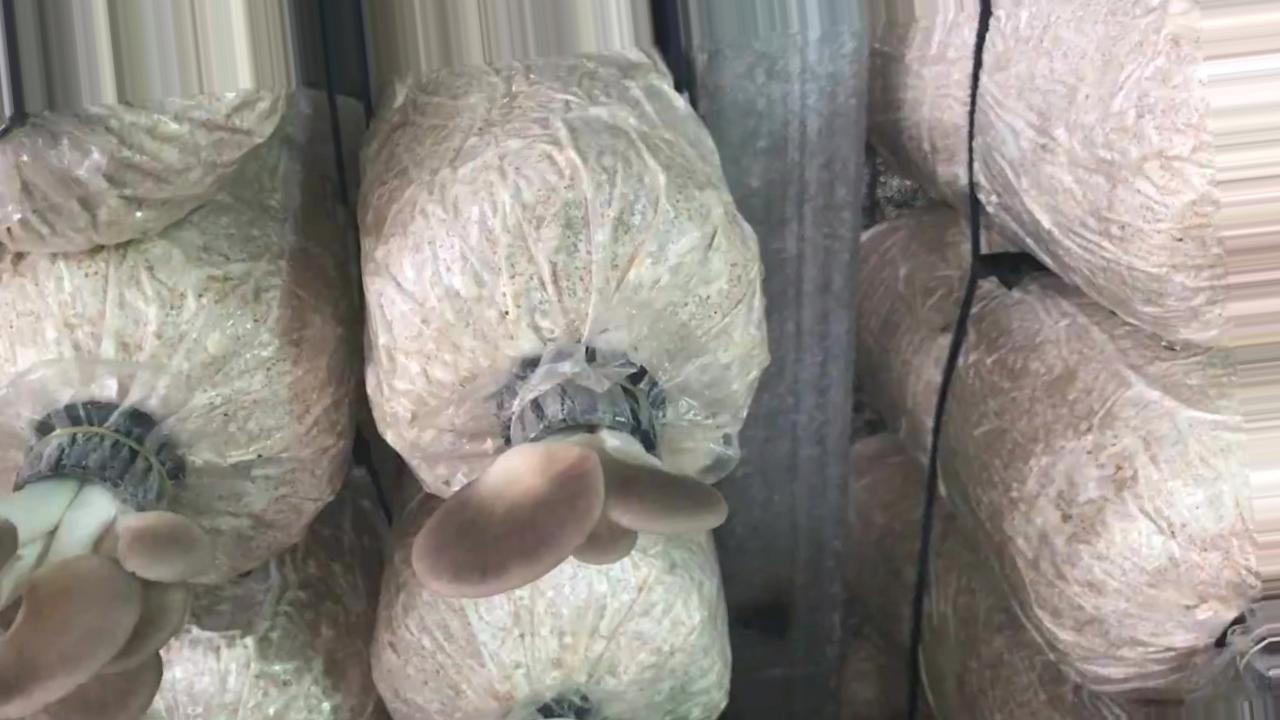nam: (409, 363, 731, 603), (1, 413, 217, 718)
